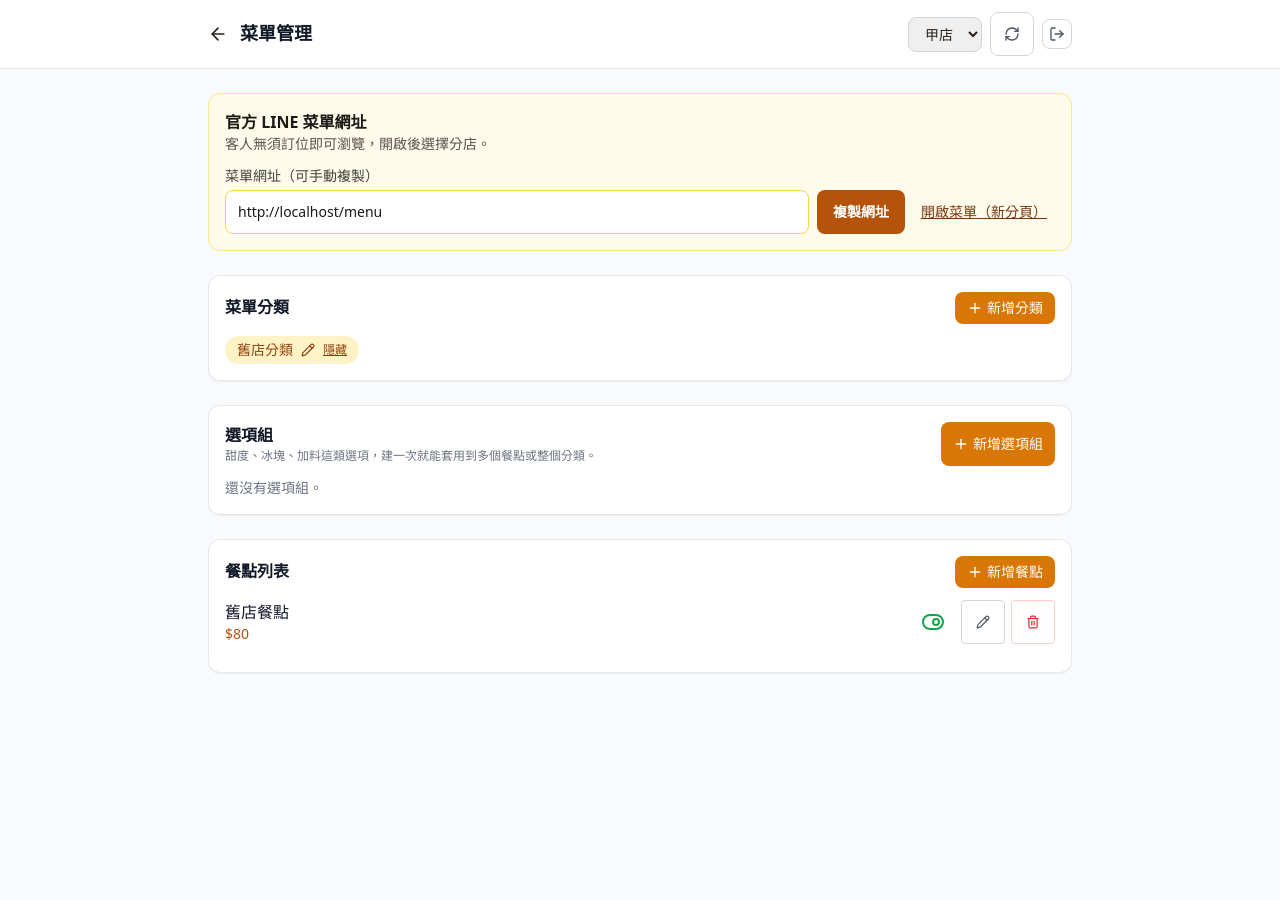
菜單分店權限變更 › 刪除 對話框在分店被移除的同次畫面提交即隱藏
Check: the text "舊店餐點" is shown, box top-left (225, 600), bottom-right (289, 624)
Step 1. Click the button named "刪除 舊店餐點" → [1033, 622], box top-left (1011, 600), bottom-right (1055, 644)
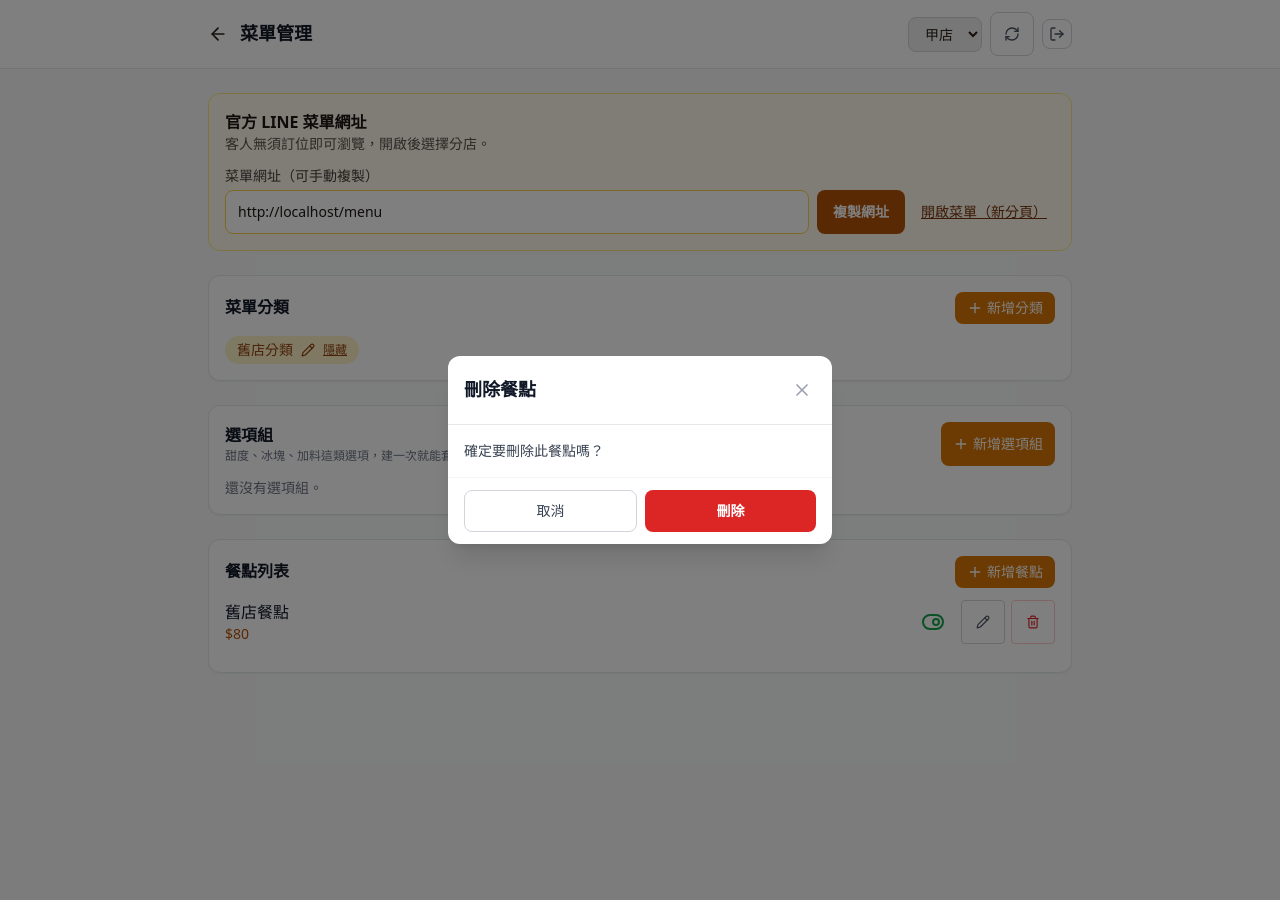
Check: the dialog is shown
